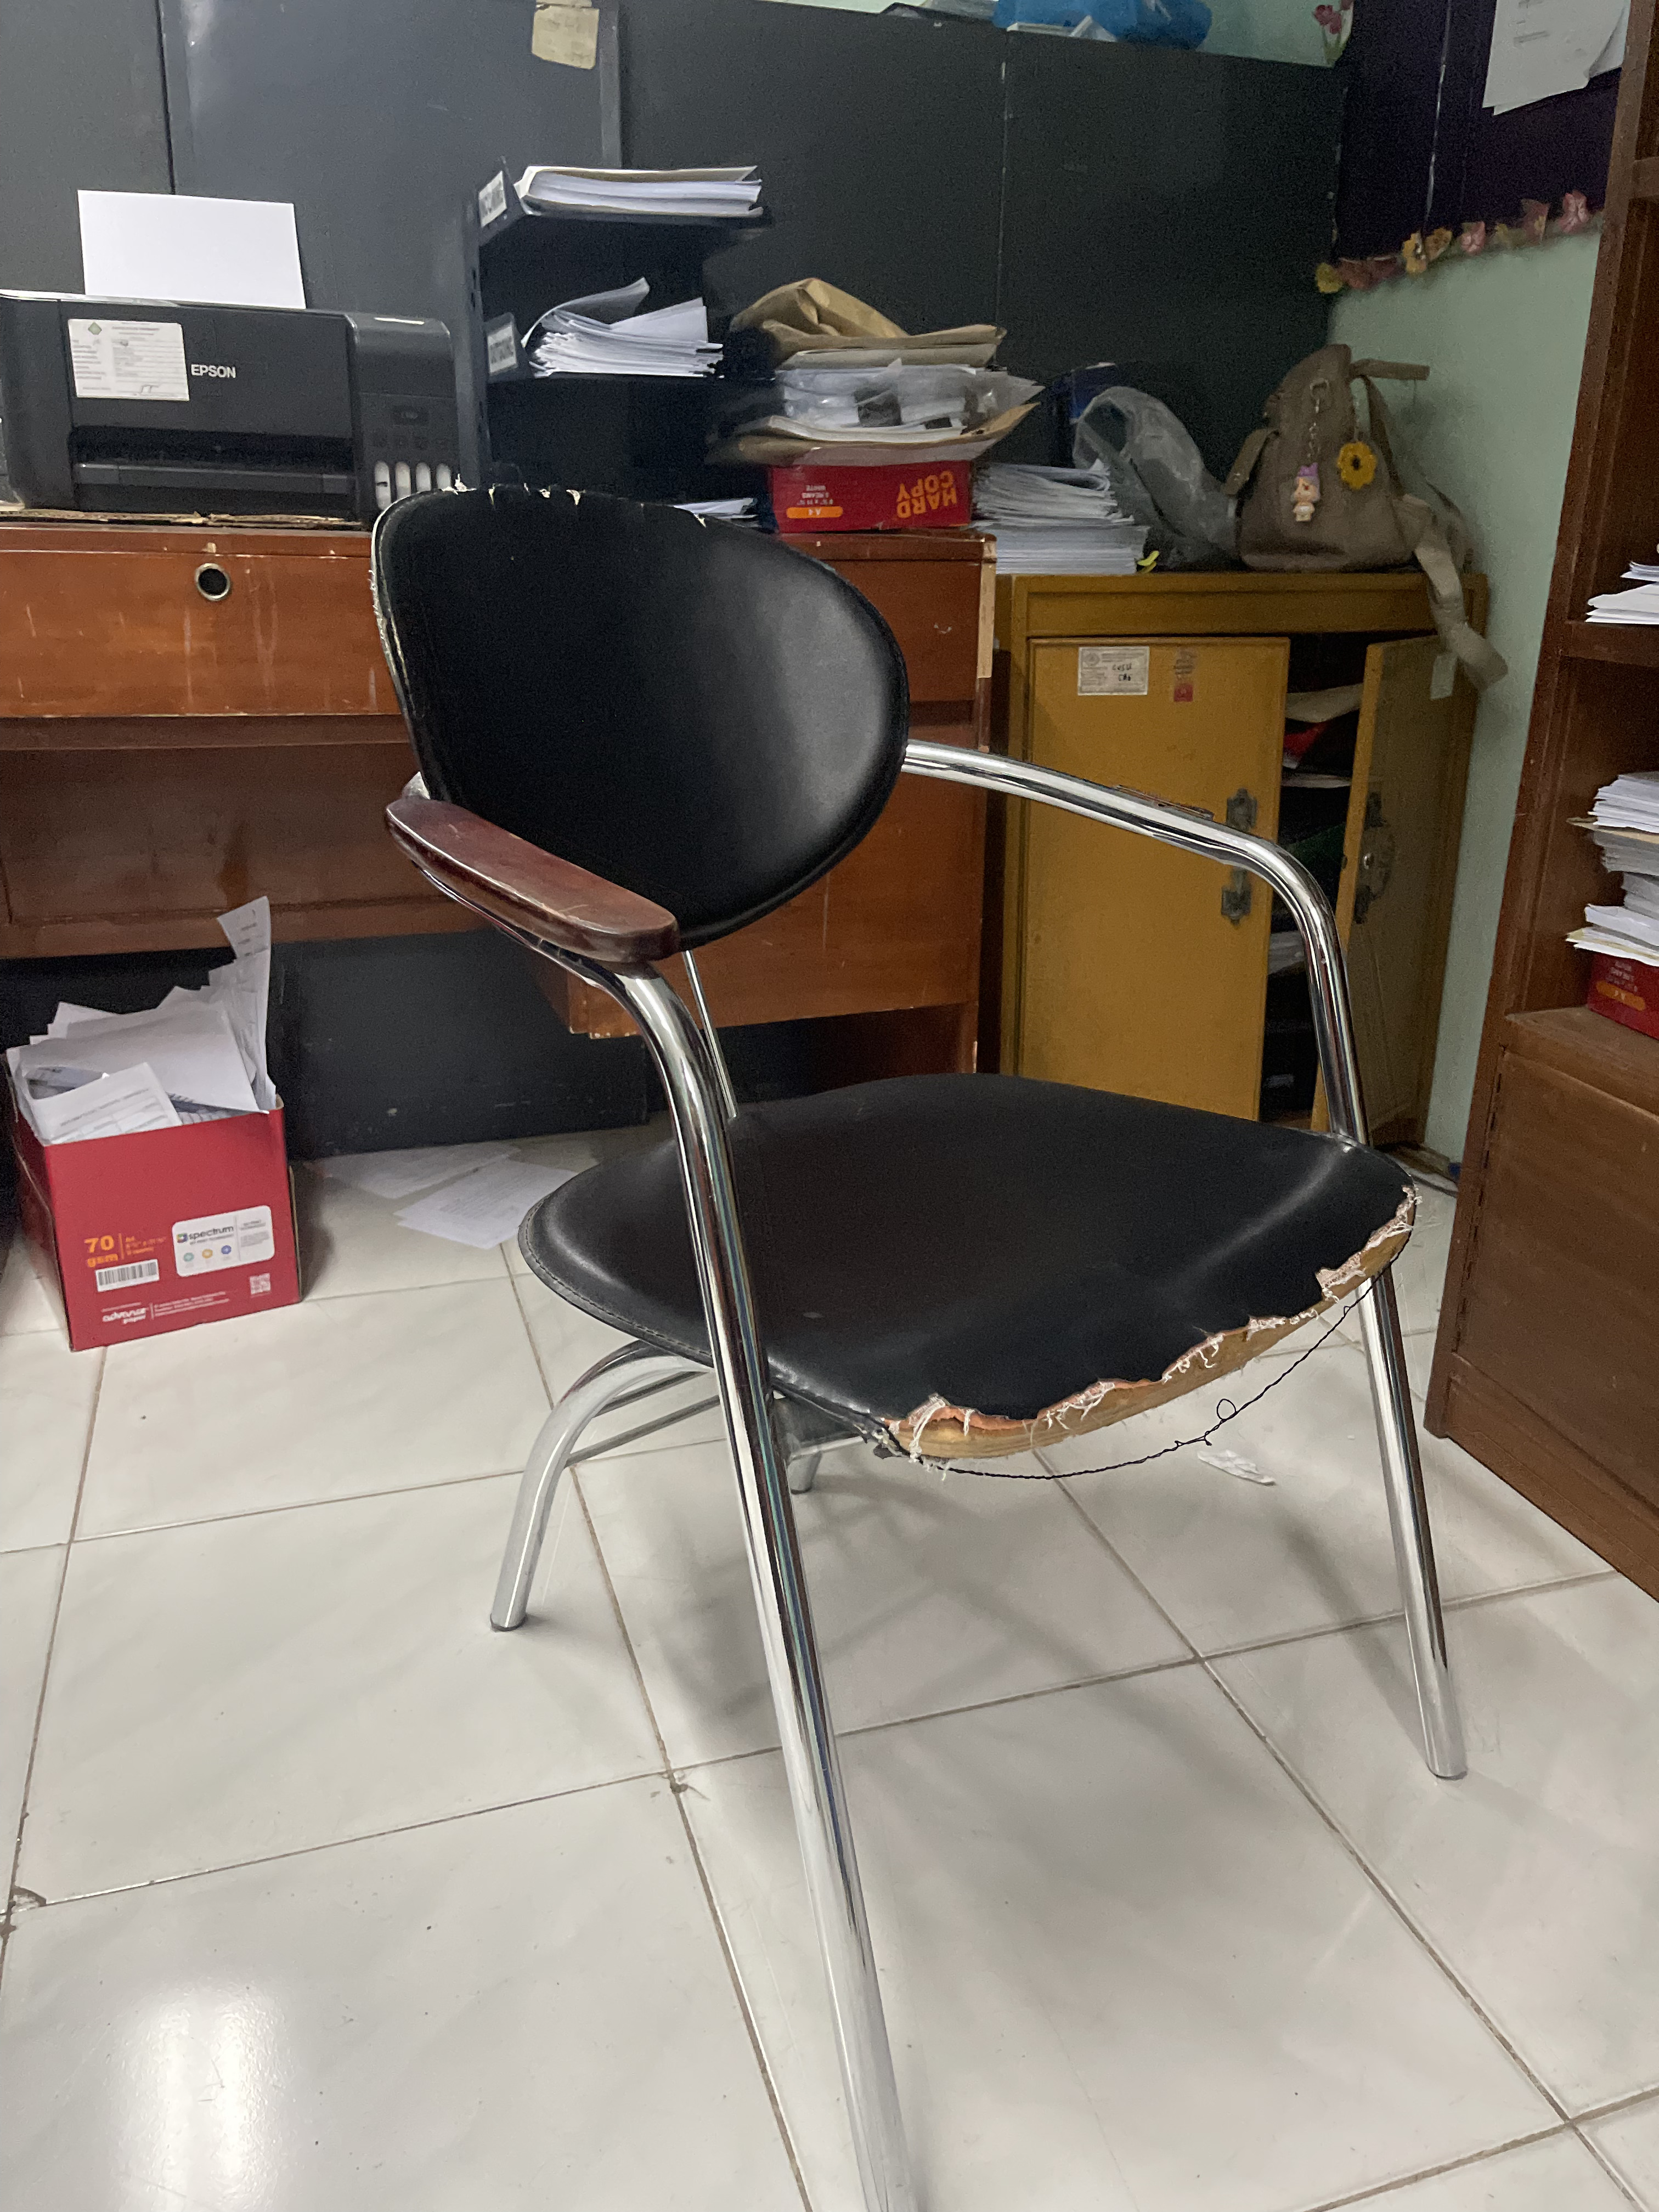chair1: (361, 486, 1478, 2212)
